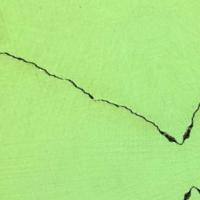crack: (2, 39, 199, 149)
